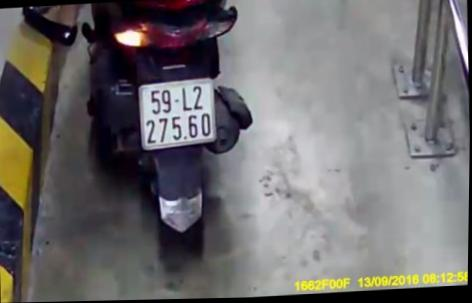LP: (138, 77, 219, 152)
